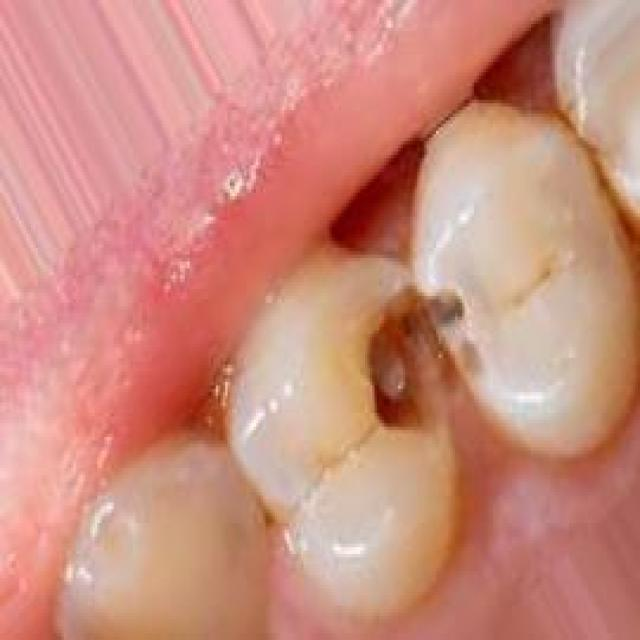caries: (339, 251, 500, 460)
